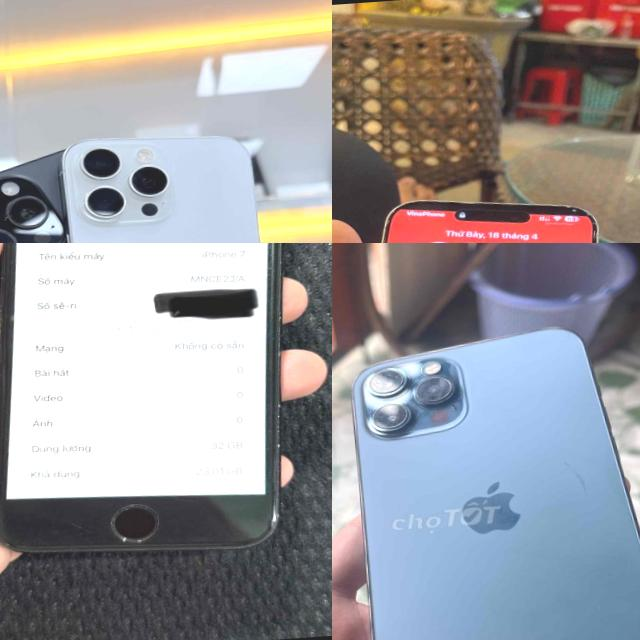gen_12_13: (335, 317, 640, 640)
gen_15: (332, 164, 627, 243)
gen_16: (55, 114, 300, 243)
gen_7_8: (0, 243, 317, 569)
